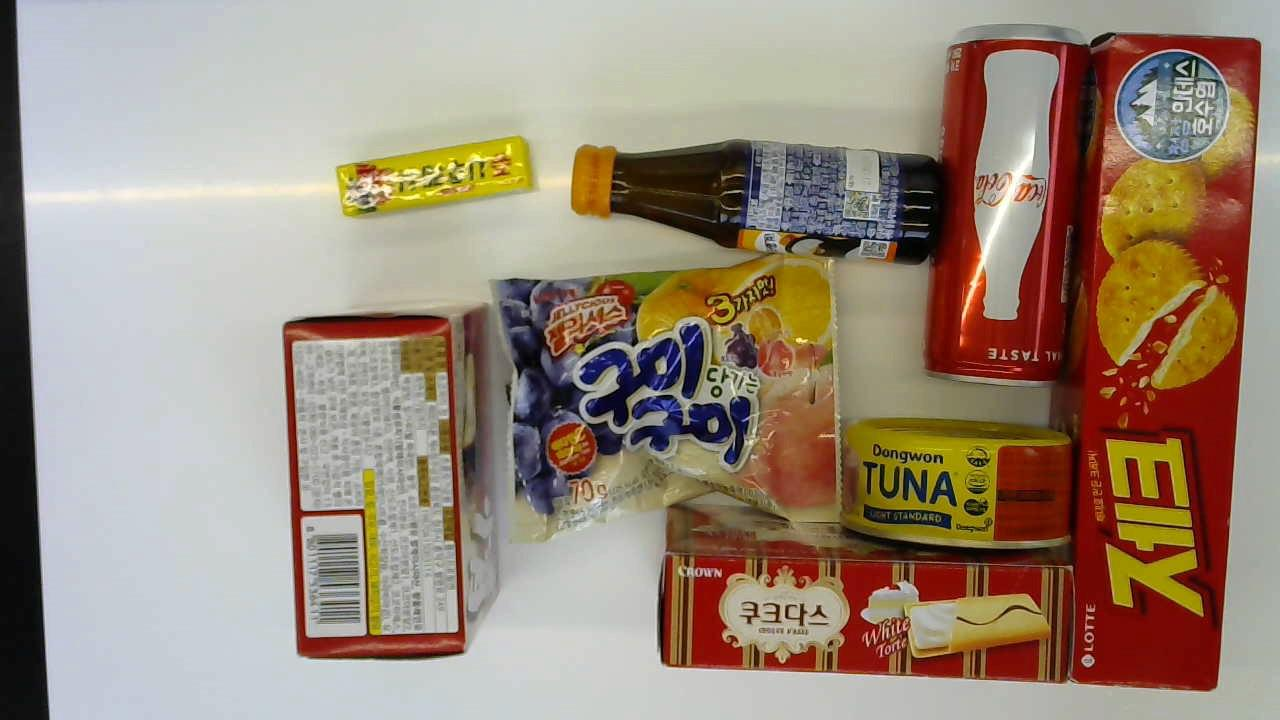chocopie: (281, 299, 499, 656)
coke: (918, 24, 1089, 385)
couque_white: (654, 504, 1063, 684)
gumi_gumi: (487, 267, 838, 549)
juicyfresh: (335, 135, 538, 220)
tuna: (835, 418, 1080, 555)
vita500: (566, 136, 940, 266)
zec: (1063, 32, 1265, 690)
